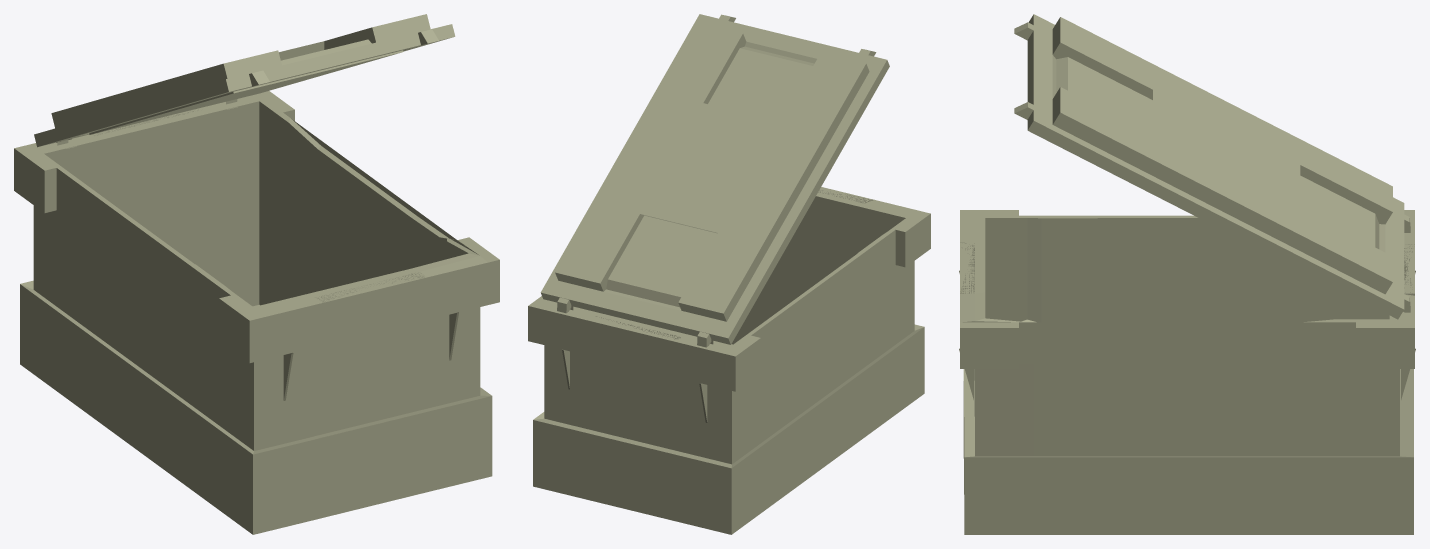
Rendered from ammo_box.fbx.
The picture shows the model from 3 angles, left to right: view 1: azimuth 30°, elevation 25°; view 2: azimuth 150°, elevation 25°; view 3: azimuth 270°, elevation 25°; orthographic projection. The views are drawn at different scales.
Visible parts, largest first — view 1: case, lid; view 2: case, lid; view 3: case, lid.
Part boxes in pixels (left/top/right/bottom): case: left=14, top=91, right=499, bottom=534; lid: left=34, top=14, right=455, bottom=147; case: left=528, top=187, right=930, bottom=534; lid: left=540, top=14, right=889, bottom=347; case: left=959, top=210, right=1415, bottom=534; lid: left=1014, top=14, right=1410, bottom=319.
Bounding box in the file's own units: 95.18 × 156 × 156.
